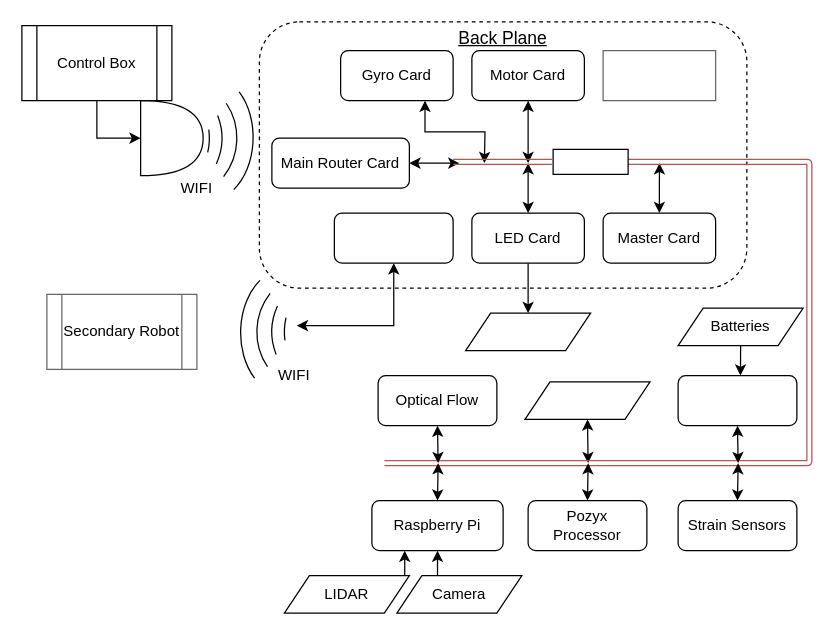
Image size: 834x635. Some labels were removed from this diagram. The shapes that lost their labels are listed below. From the top down, each one's centre as x and y in pixels, then its label:
(x=659, y=75): Watch Dog
(x=171, y=137): Router
(x=590, y=161): CAN bus
(x=393, y=237): Secondary Router Card
(x=527, y=331): LED Strips
(x=587, y=400): Motors
(x=737, y=400): Juice Board
